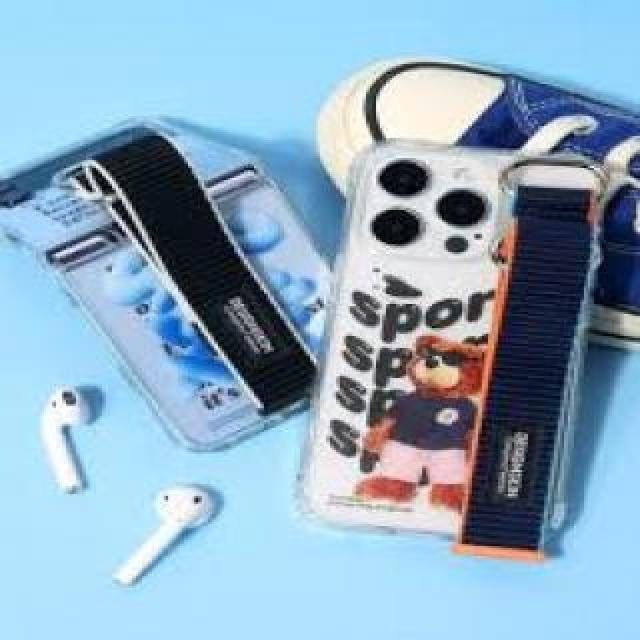earphone: (42, 365, 225, 600)
smart phone: (288, 121, 605, 556)
